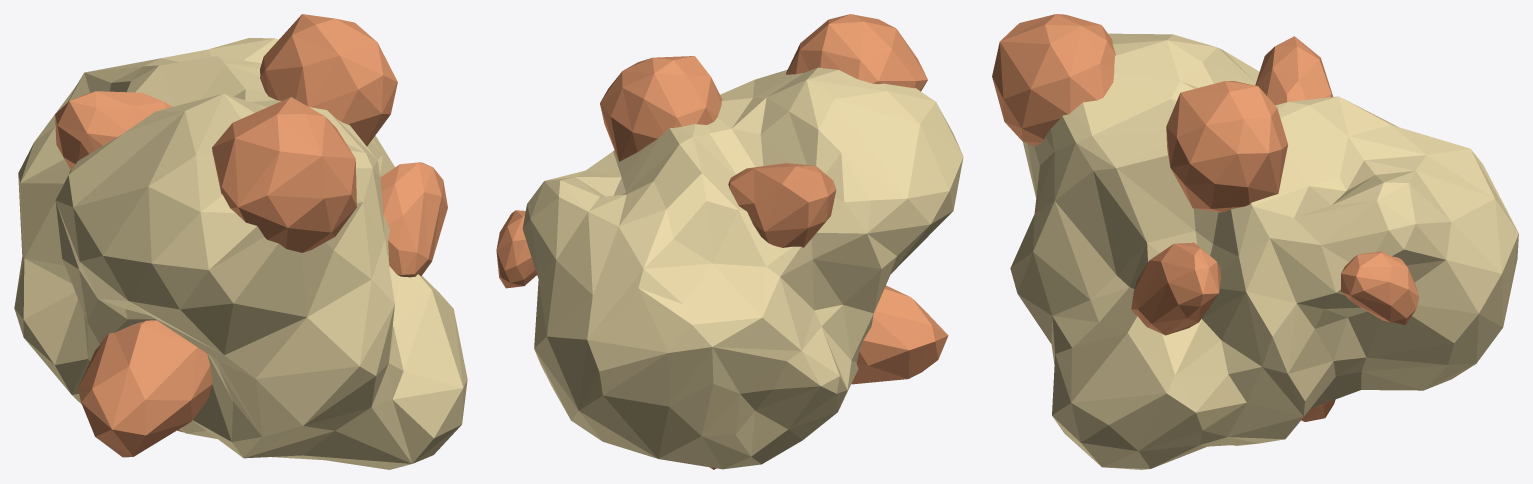
File: StoneOre (20).fbx
The picture shows the model from 3 angles, left to right: view 1: azimuth 30°, elevation 25°; view 2: azimuth 150°, elevation 25°; view 3: azimuth 270°, elevation 25°; orthographic projection. The views are drawn at different scales.
Visible parts, largest first — view 1: Asteroid307; view 2: Asteroid307; view 3: Asteroid307.
Boxes of the visible parts, box(x1,y1,x2,y2) form: Asteroid307: box(14, 14, 467, 469); Asteroid307: box(496, 14, 963, 469); Asteroid307: box(992, 14, 1518, 469).
Bounding box in the file's own units: 215 × 223 × 272.
